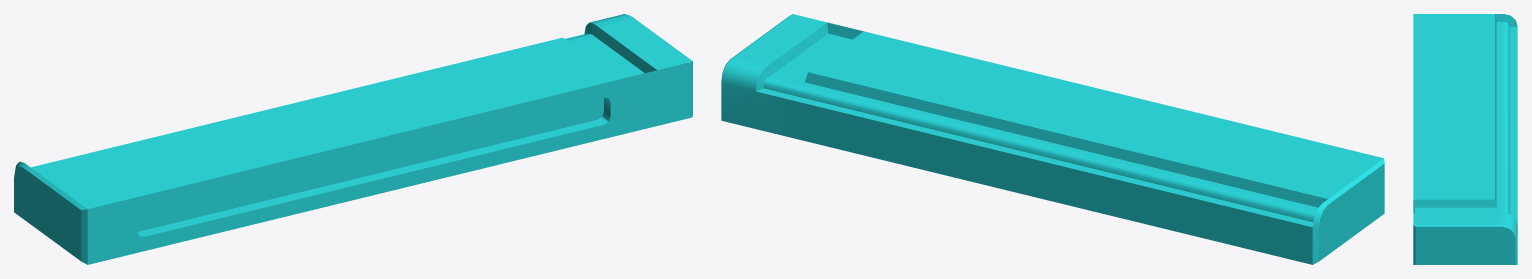
File: CyberObject_mesh.fbx
3 views of the same model, side by side, from view 1: azimuth 30°, elevation 25°; view 2: azimuth 150°, elevation 25°; view 3: azimuth 270°, elevation 25° (orthographic). The views are drawn at different scales.
Visible parts, largest first — view 1: CyberObject_mesh; view 2: CyberObject_mesh; view 3: CyberObject_mesh.
Part boxes in pixels (left/top/right/bottom): CyberObject_mesh: left=14, top=14, right=692, bottom=264; CyberObject_mesh: left=721, top=14, right=1384, bottom=264; CyberObject_mesh: left=1413, top=14, right=1517, bottom=264.
Size of the model in its own units: 213911 by 44301 by 18675.
